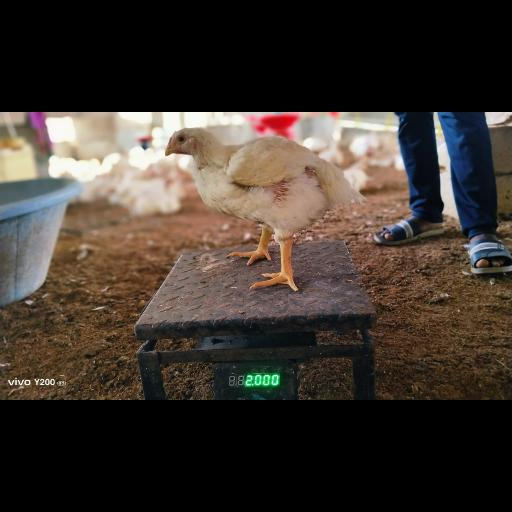chick: (167, 129, 363, 292)
